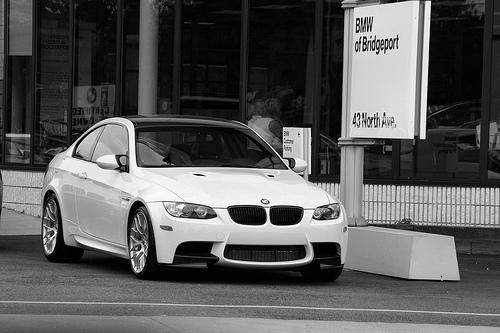car: (40, 114, 350, 285)
